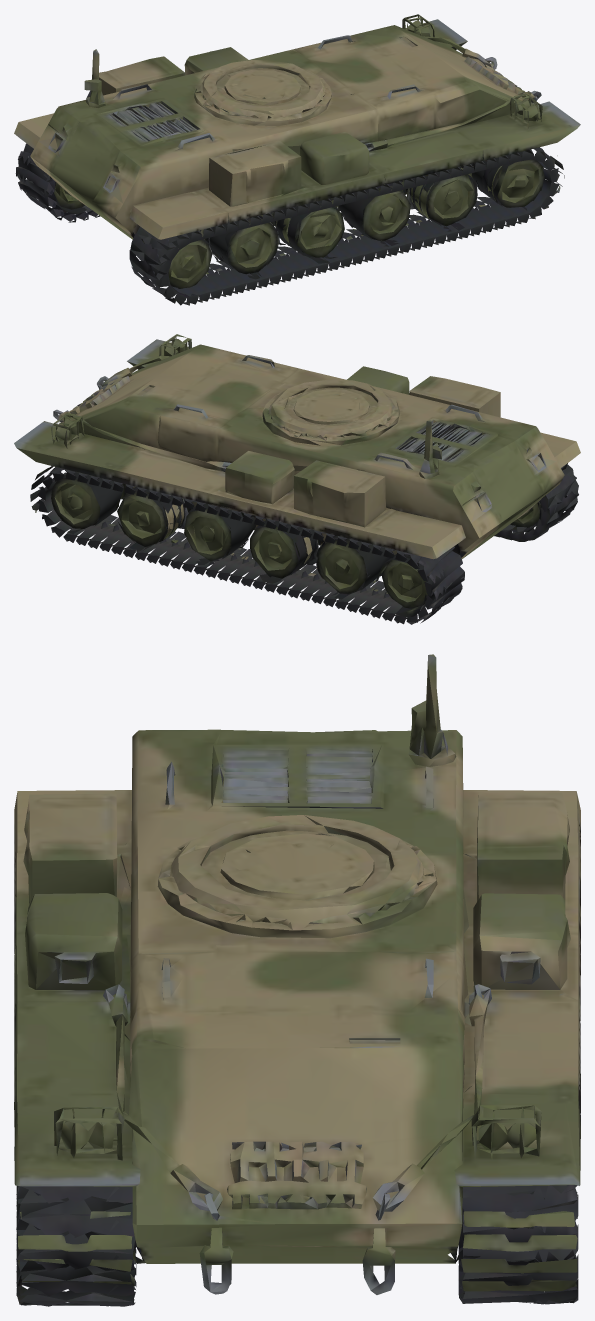
The model's file is chassis-vanguard-0-light.glb.
3 renders of one model, top to bottom at view 1: azimuth 30°, elevation 25°; view 2: azimuth 150°, elevation 25°; view 3: azimuth 270°, elevation 25°, orthographic. The views are drawn at different scales.
Parts seen in each view (by area): view 1: chassis-vanguard-0-light; view 2: chassis-vanguard-0-light; view 3: chassis-vanguard-0-light.
Boxes of the visible parts, x1,y1,x2,y2 form: chassis-vanguard-0-light: [14, 14, 580, 305]; chassis-vanguard-0-light: [14, 334, 580, 624]; chassis-vanguard-0-light: [14, 654, 580, 1306].
Bounding box in the file's own units: 2.61 × 0.9738 × 1.47.
1 material, 1 textured.
